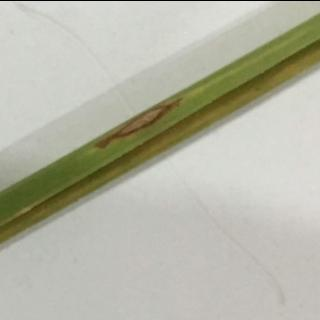Blast: (76, 100, 182, 166)
